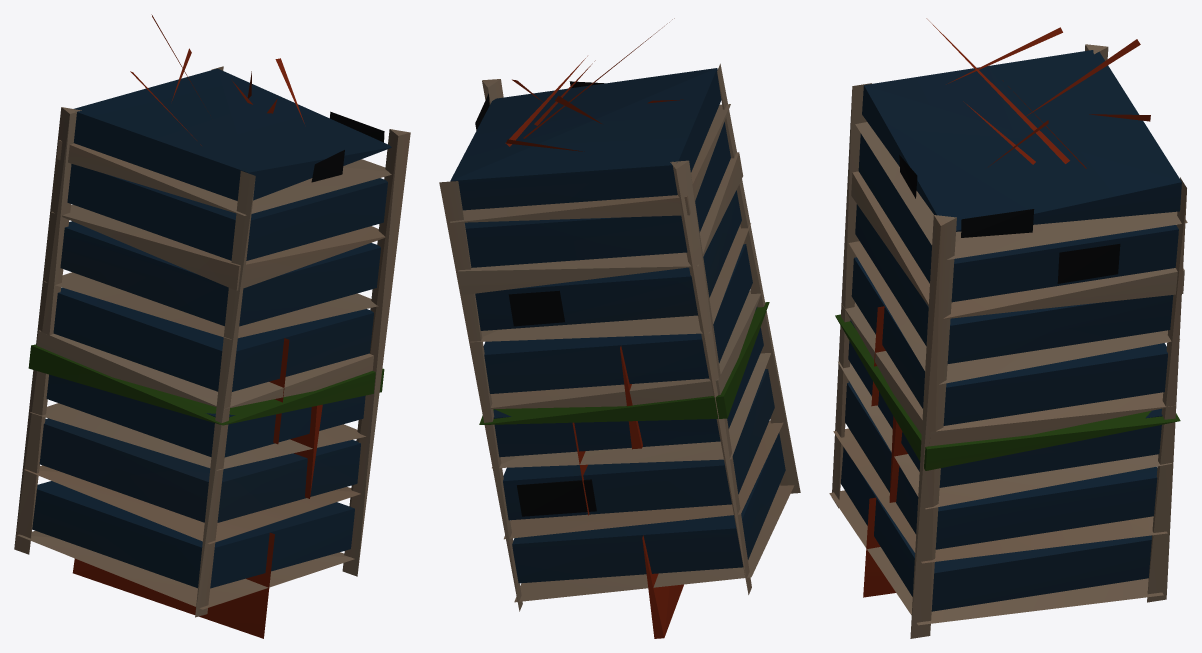
The model's file is tb_tower_stump.three-web-toon.lod50.glb.
The picture shows the model from 3 angles, left to right: view 1: azimuth 30°, elevation 25°; view 2: azimuth 150°, elevation 25°; view 3: azimuth 270°, elevation 25°; orthographic projection. The views are drawn at different scales.
Parts seen in each view (by area): view 1: tower_stump_body_lod; view 2: tower_stump_body_lod; view 3: tower_stump_body_lod.
Boxes of the visible parts, left/top/right/bottom form: tower_stump_body_lod: left=14, top=14, right=410, bottom=638; tower_stump_body_lod: left=439, top=18, right=800, bottom=638; tower_stump_body_lod: left=829, top=18, right=1187, bottom=638.
Size of the model in its own units: 18.8 by 29.38 by 16.42.
